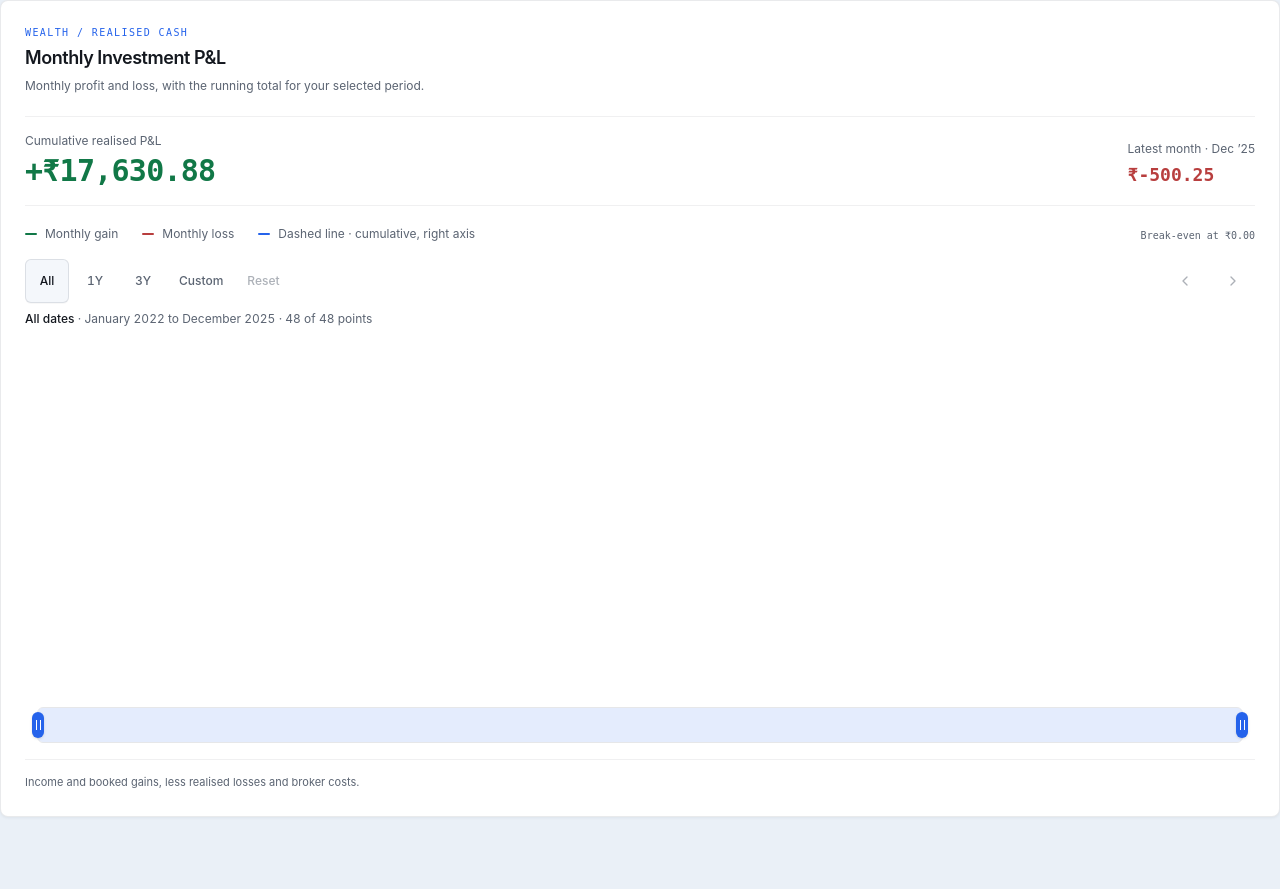
Test: long chart range integration › monthly investment returns defaults to All and zoom keeps complete rows and financial values
The image size is (1280, 889).
Expected: the text "All dates · January 2022 to December 2025 · 48 of 48 points" is shown, [25,311,372,326]
Click the button "1Y" at (95, 281), box [73,259,117,303]
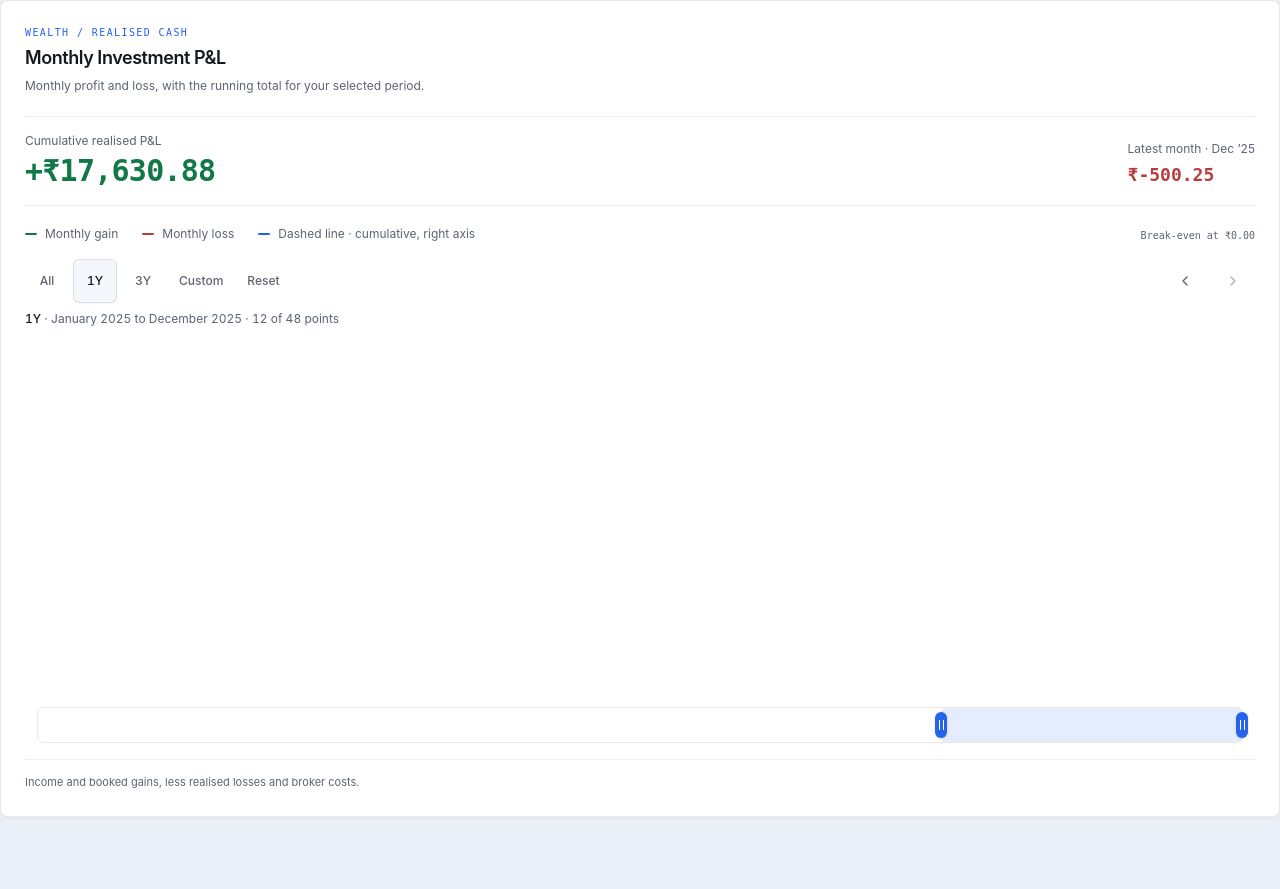
Result: the text "1Y · January 2025 to December 2025 · 12 of 48 points" is shown at [25,311,339,326]
Click the button "Reset" at (264, 281), box [237,259,290,303]
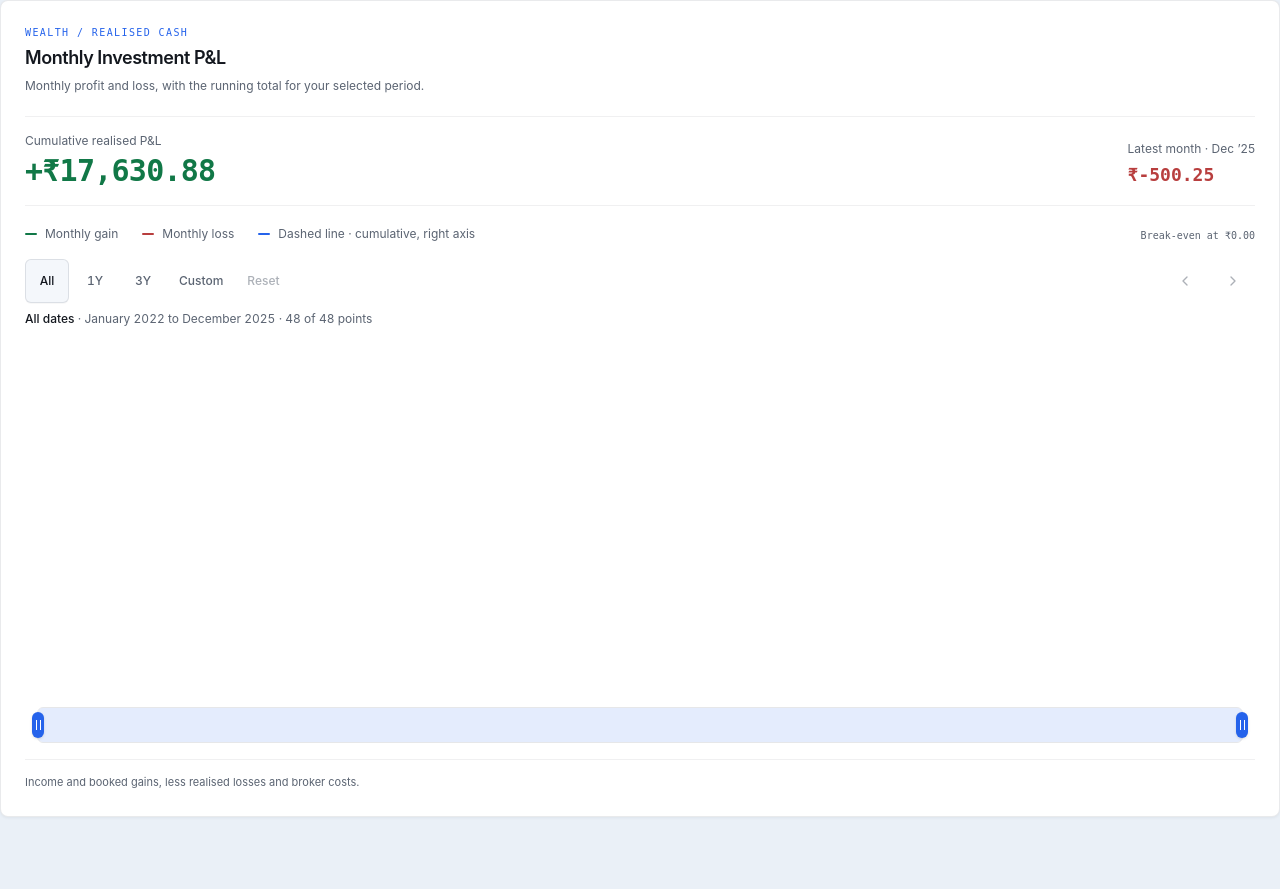
Result: the text "All dates · January 2022 to December 2025 · 48 of 48 points" is shown at [25,311,372,326]
